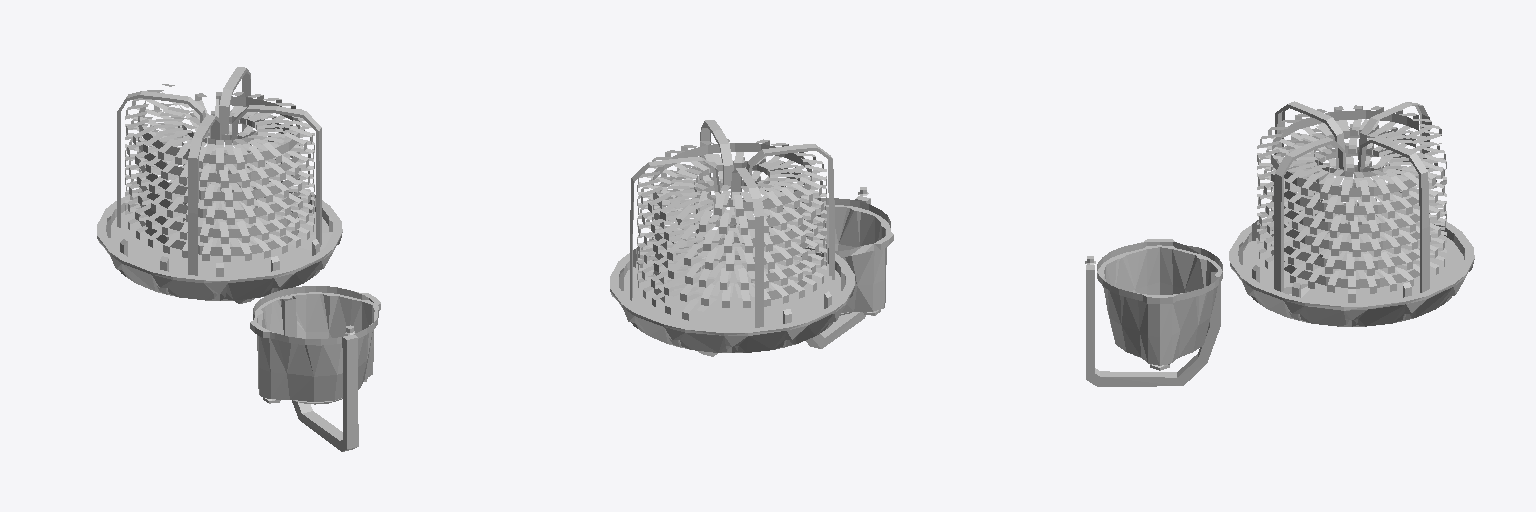
Rendered from MinigunRear.obj.
3 renders of one model, left to right at view 1: azimuth 30°, elevation 25°; view 2: azimuth 150°, elevation 25°; view 3: azimuth 270°, elevation 25°, orthographic.
Visible parts, largest first — view 1: Minigun_AmmoDrum:0, Minigun_Rear:0, Minigun_Rear:1; view 2: Minigun_AmmoDrum:0, Minigun_Rear:0, Minigun_Rear:1; view 3: Minigun_AmmoDrum:0, Minigun_Rear:0, Minigun_Rear:1.
Boxes of the visible parts, box(x1,y1,x2,y2) form: Minigun_AmmoDrum:0: box(97, 67, 342, 303); Minigun_Rear:0: box(250, 286, 380, 404); Minigun_Rear:1: box(280, 295, 358, 451); Minigun_AmmoDrum:0: box(610, 120, 854, 356); Minigun_Rear:0: box(814, 187, 893, 315); Minigun_Rear:1: box(806, 196, 870, 348); Minigun_AmmoDrum:0: box(1229, 101, 1474, 326); Minigun_Rear:0: box(1085, 239, 1222, 370); Minigun_Rear:1: box(1086, 265, 1220, 386).
Size of the model in its own units: 28.86 by 33.08 by 45.61.